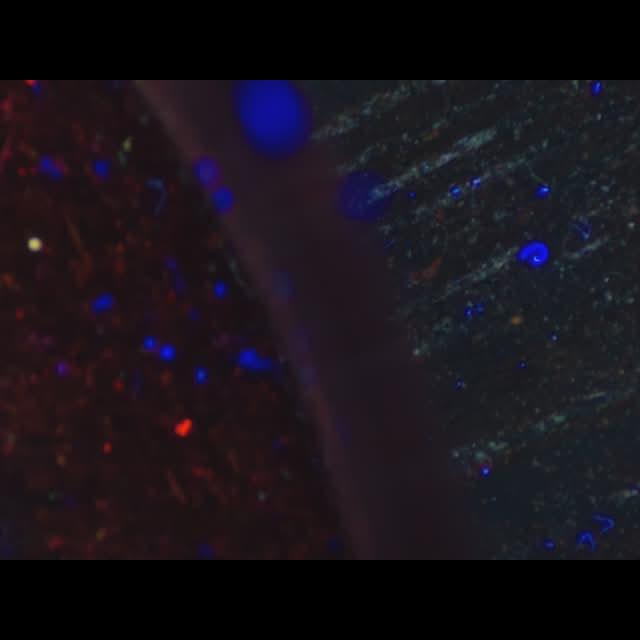microbeads: (24, 236, 44, 254)
